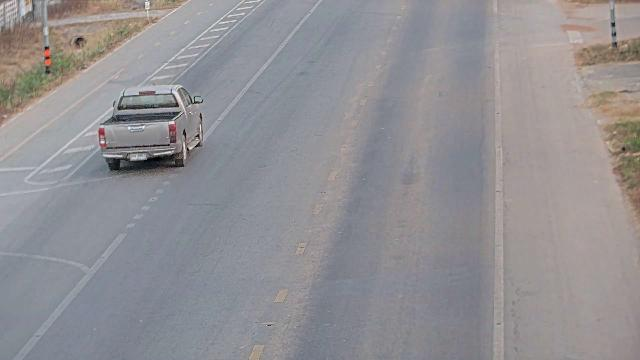pickup-truck: (97, 83, 204, 171)
